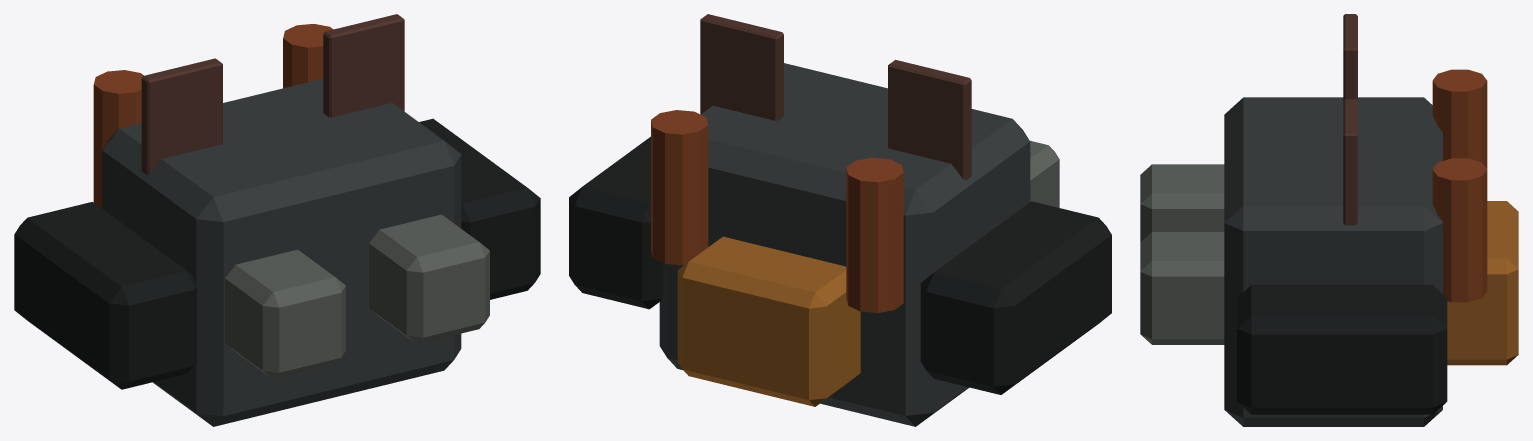
The model's file is BellowsTitan.glb.
3 renders of one model, left to right at view 1: azimuth 30°, elevation 25°; view 2: azimuth 150°, elevation 25°; view 3: azimuth 270°, elevation 25°, orthographic. The views are drawn at different scales.
Visible parts, largest first — view 1: Body, LeftArm, RightLeg, LeftLeg, RightArm, BellowsR2, BellowsL1, ExhaustL, BellowsR1, BellowsL3, ExhaustR, BellowsR4 (+3 smaller); view 2: Body, LeftArm, Head, RightArm, ExhaustL, ExhaustR, BellowsR2, BellowsL2, BellowsL1, BellowsR4, BellowsL4, BellowsR3 (+3 smaller); view 3: Body, RightArm, RightLeg, Head, ExhaustR, LeftLeg, ExhaustL, BellowsR1, BellowsR4, BellowsL4, BellowsR3, BellowsR2 (+1 smaller).
Boxes of the visible parts, x1,y1,x2,y2 form: Body: (102,78,461,426); LeftArm: (14,202,196,389); RightLeg: (369,214,489,344); LeftLeg: (225,249,345,379); RightArm: (419,118,540,299); BellowsR2: (323,40,404,116); BellowsL1: (141,94,222,174); ExhaustL: (93,70,143,208); BellowsR1: (324,50,404,117); BellowsL3: (141,74,222,171); ExhaustR: (283,24,333,88); BellowsR4: (323,14,404,114); Body: (659,63,1030,426); LeftArm: (920,201,1111,394); Head: (677,236,860,406); RightArm: (569,136,662,309); ExhaustL: (846,157,903,312); ExhaustR: (651,110,708,265); BellowsR2: (700,40,783,120); BellowsL2: (888,86,971,179); BellowsL1: (888,97,971,180); BellowsR4: (700,14,783,119); BellowsL4: (888,60,971,179); BellowsR3: (700,30,783,120); Body: (1224,97,1442,426); RightArm: (1237,285,1447,414); RightLeg: (1140,232,1224,344); Head: (1447,201,1518,365); ExhaustR: (1432,158,1487,302); LeftLeg: (1140,164,1224,241); ExhaustL: (1432,69,1487,168); BellowsR1: (1343,164,1357,225); BellowsR4: (1343,99,1357,218); BellowsL4: (1343,14,1357,99); BellowsR3: (1343,144,1357,225); BellowsR2: (1343,154,1357,224).
Size of the model in its own units: 11.4 by 8.22 by 9.
Materials: 1 (1 with a texture image).
